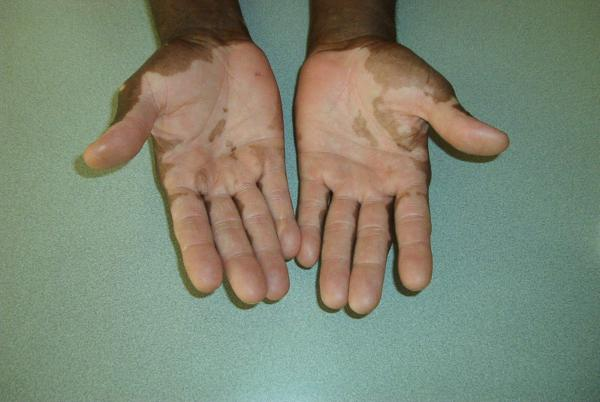Diseased: (137, 49, 439, 283)
